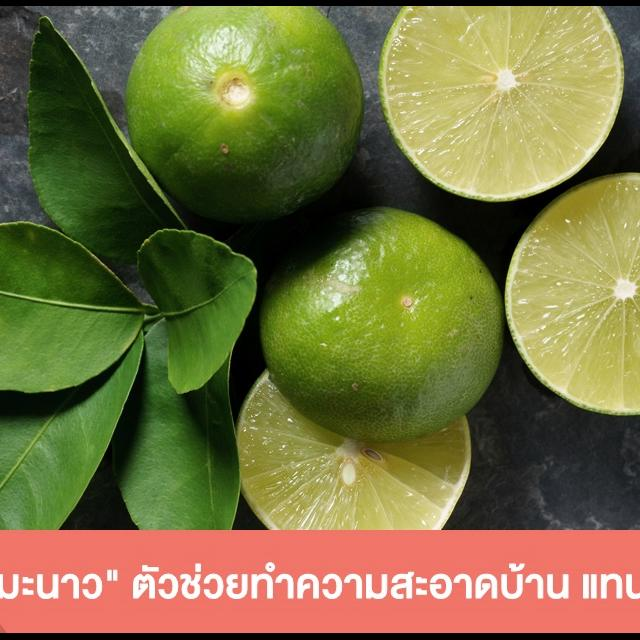lime: (256, 195, 512, 453), (110, 7, 365, 238)
